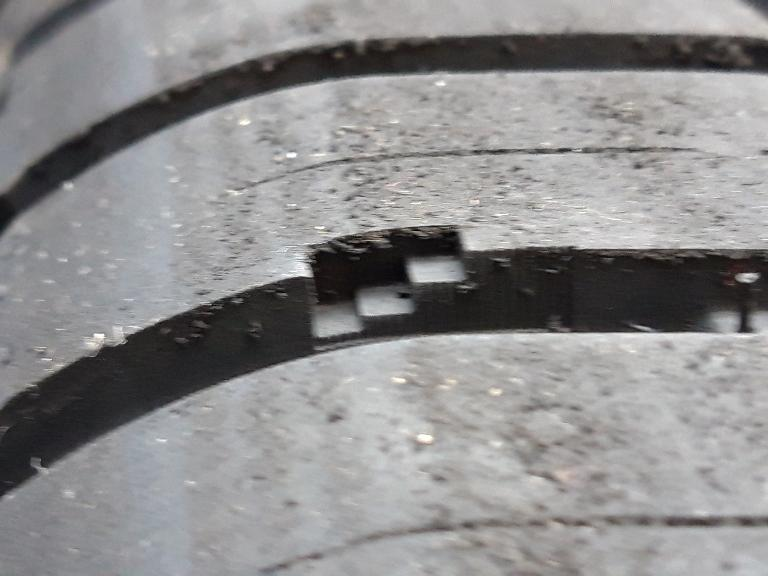temoin:75: (288, 215, 526, 362)
